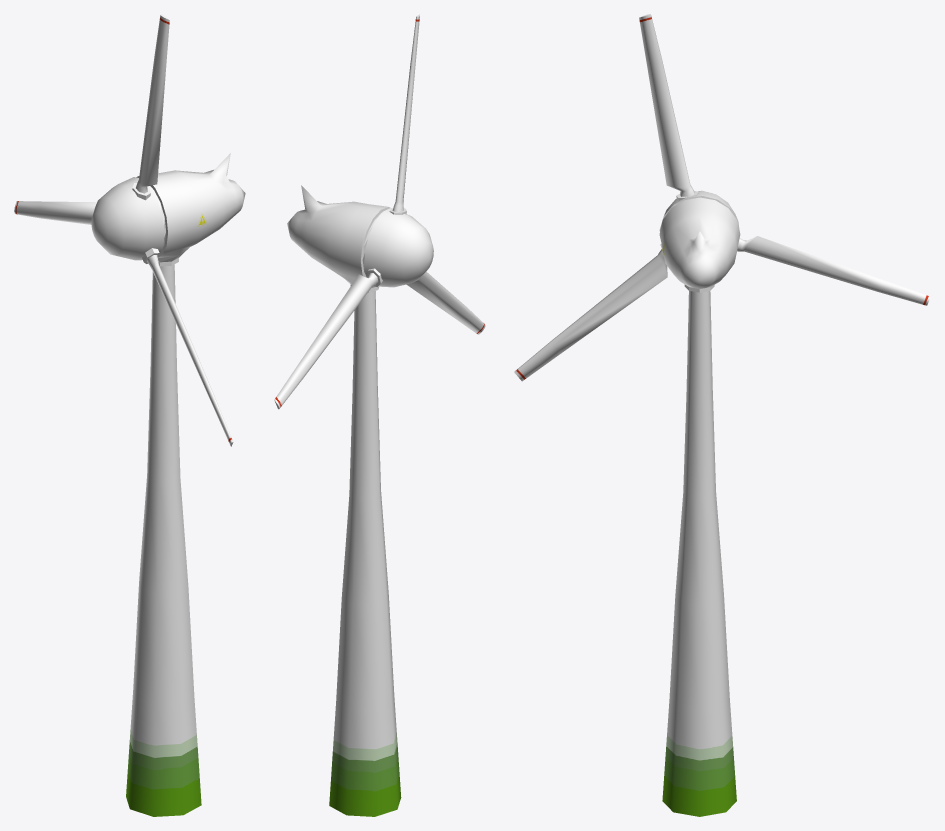
The picture shows the model from 3 angles, left to right: view 1: azimuth 30°, elevation 25°; view 2: azimuth 150°, elevation 25°; view 3: azimuth 270°, elevation 25°; orthographic projection. The views are drawn at different scales.
Visible parts, largest first — view 1: pole, motor_2, motor_1; view 2: pole, motor_2, motor_1; view 3: pole, motor_2, motor_1.
Part boxes in pixels (x1,y1,x2,y2): pole: (126, 264, 201, 816); motor_2: (14, 14, 233, 446); motor_1: (136, 153, 245, 266); pole: (329, 291, 401, 816); motor_2: (274, 14, 485, 409); motor_1: (287, 185, 390, 292); pole: (662, 291, 736, 816); motor_2: (514, 14, 930, 381); motor_1: (659, 197, 740, 292).
Bounding box in the file's own units: 0.4391 × 2.26 × 1.11.
2 materials, 1 textured.
